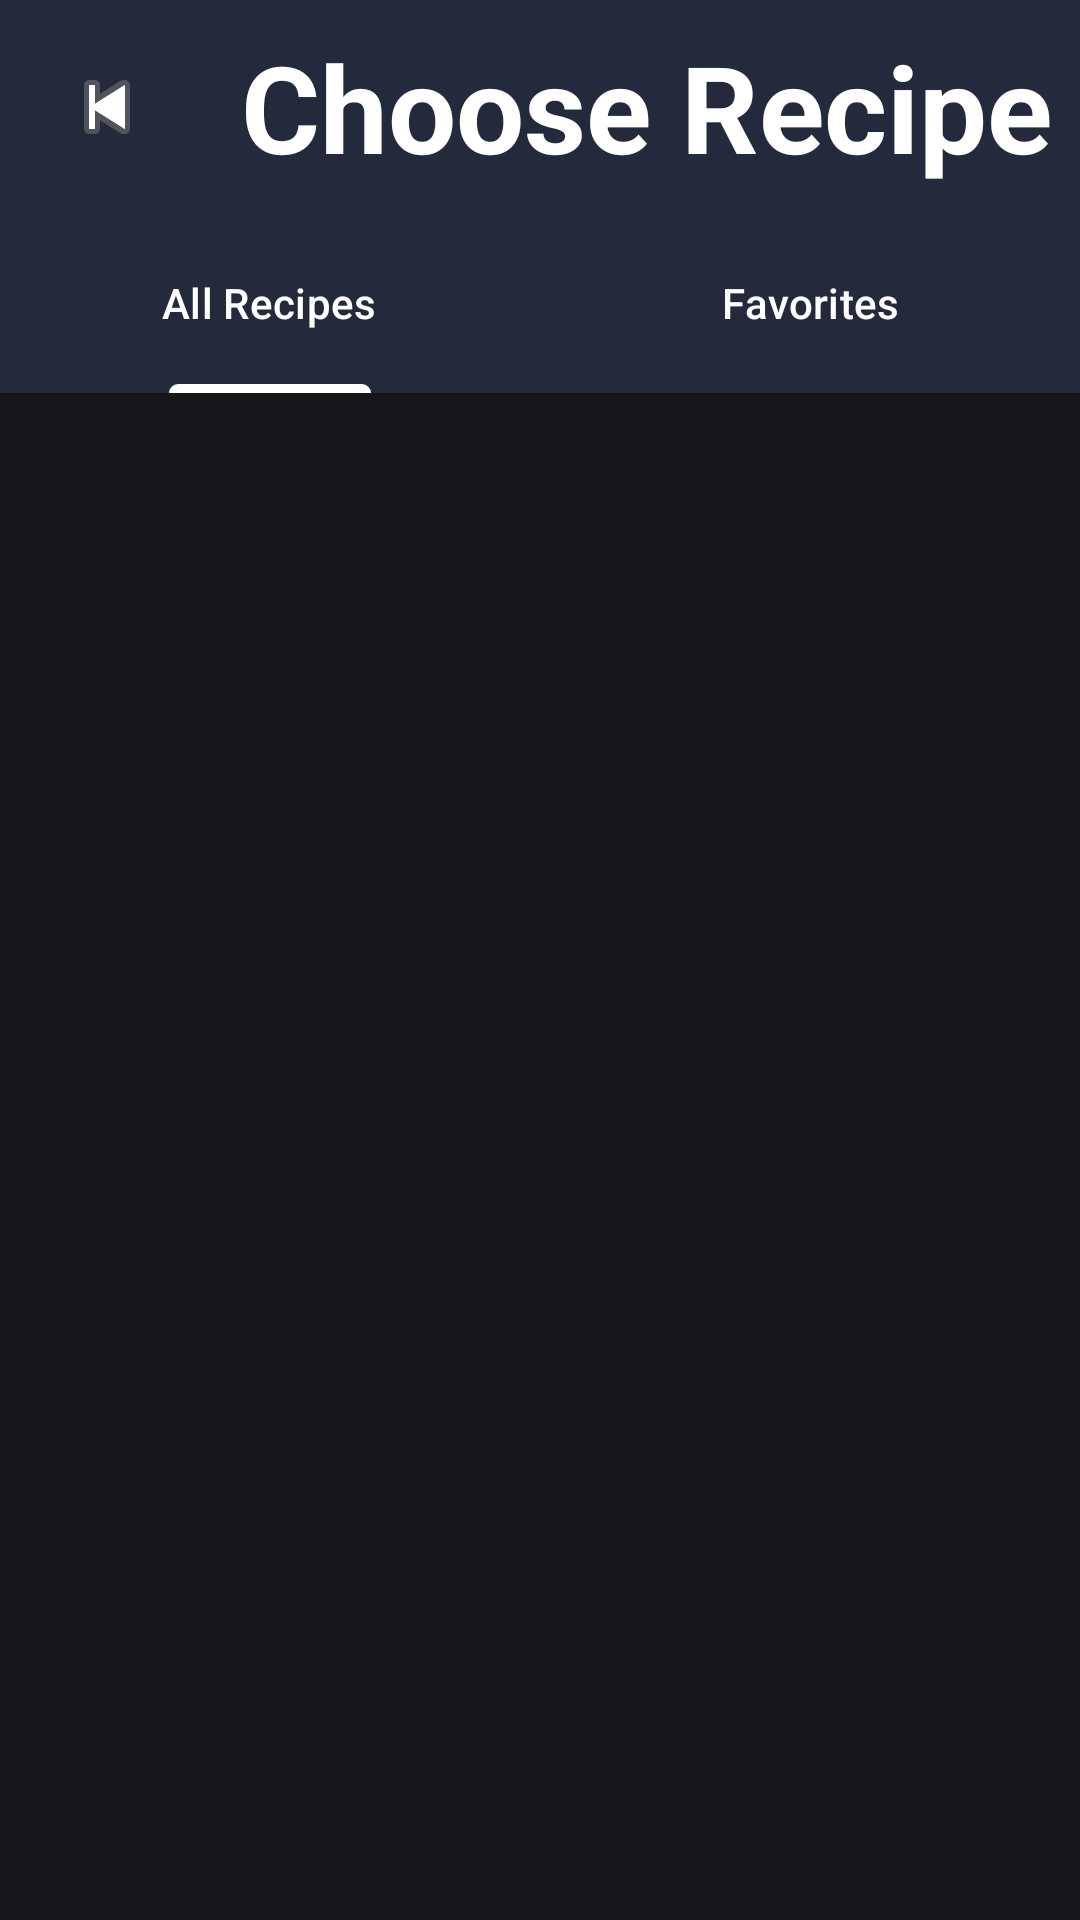

Locate icon controls on the screen. Image size 1080*1920, boxes as (x1, y1, x2, y2).
previous: (84, 80, 130, 134)
